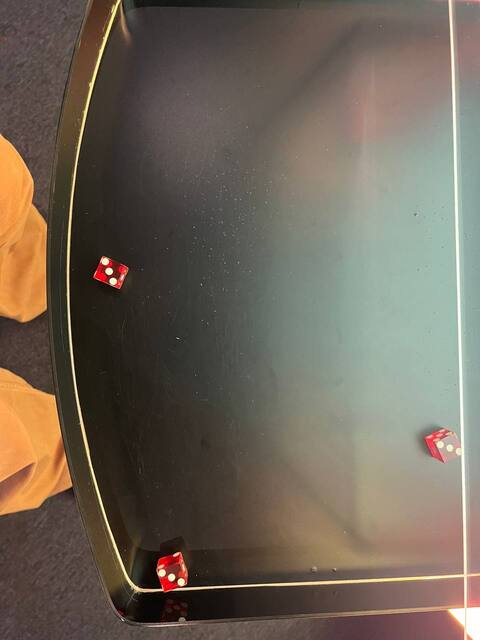three: (89, 253, 132, 292), (432, 434, 466, 466), (154, 565, 189, 591)
